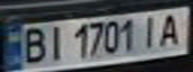0: (103, 17, 124, 55)
1: (69, 20, 90, 60), (118, 16, 139, 52)
7: (84, 19, 106, 58)
A: (154, 10, 187, 48)
B: (18, 25, 51, 66)
I: (42, 22, 69, 63), (136, 12, 163, 50)
